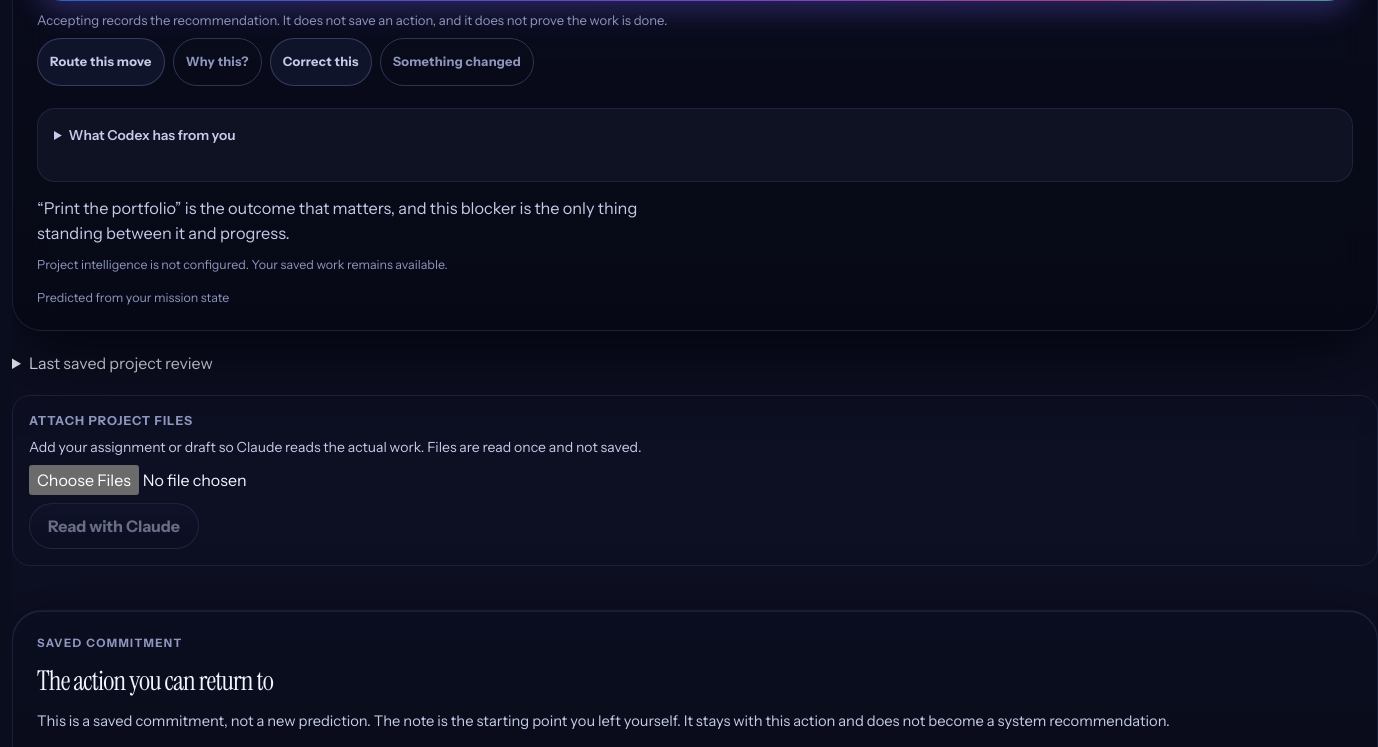
Test: MissionTab project-review access › shows saved historical review for a blocked primary without turning it into an action
The image size is (1378, 747).
(page scrolled)
Click the heading "Last saved project review" at (121, 364), box [29, 354, 213, 374]
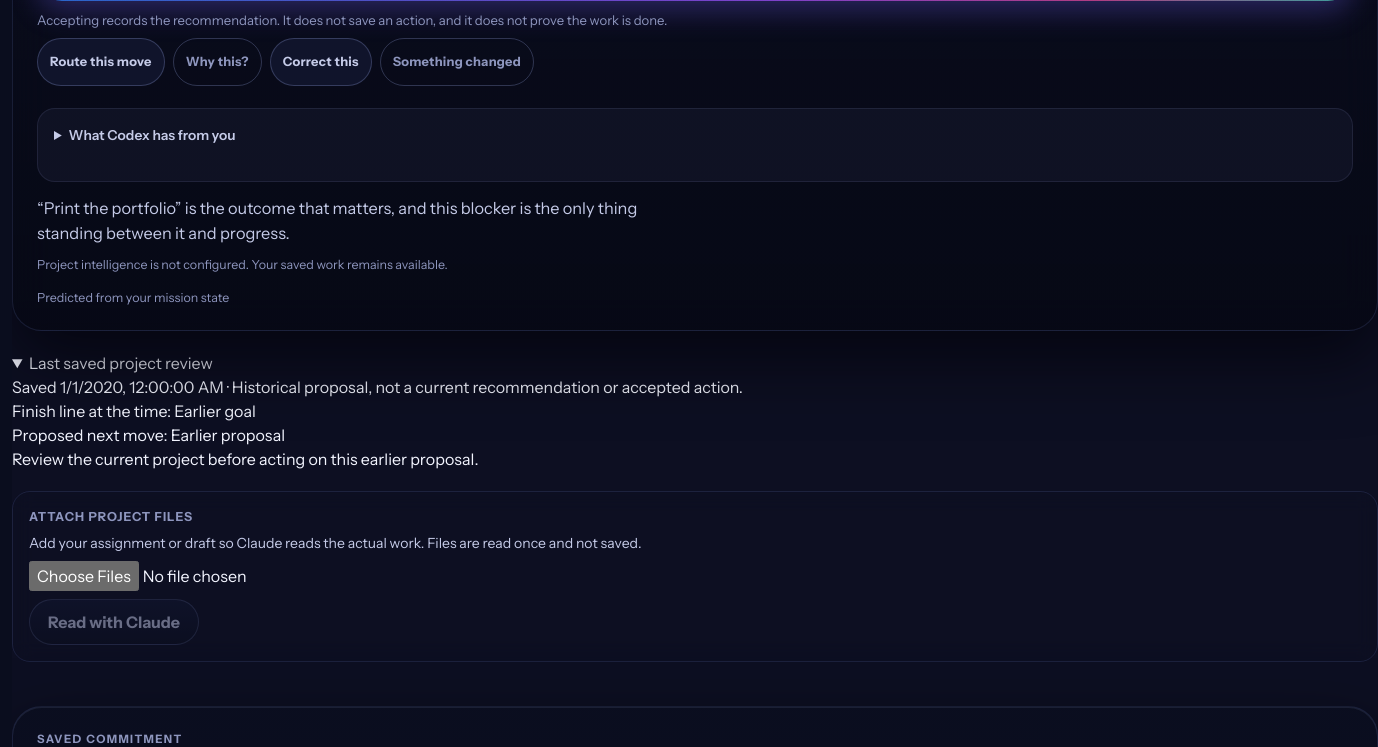
Expected: the text "Historical proposal, not a current recommendation or accepted action" is shown, [224, 378, 743, 398]
Expected: the text "Proposed next move: Earlier proposal" is shown, [12, 426, 285, 446]
